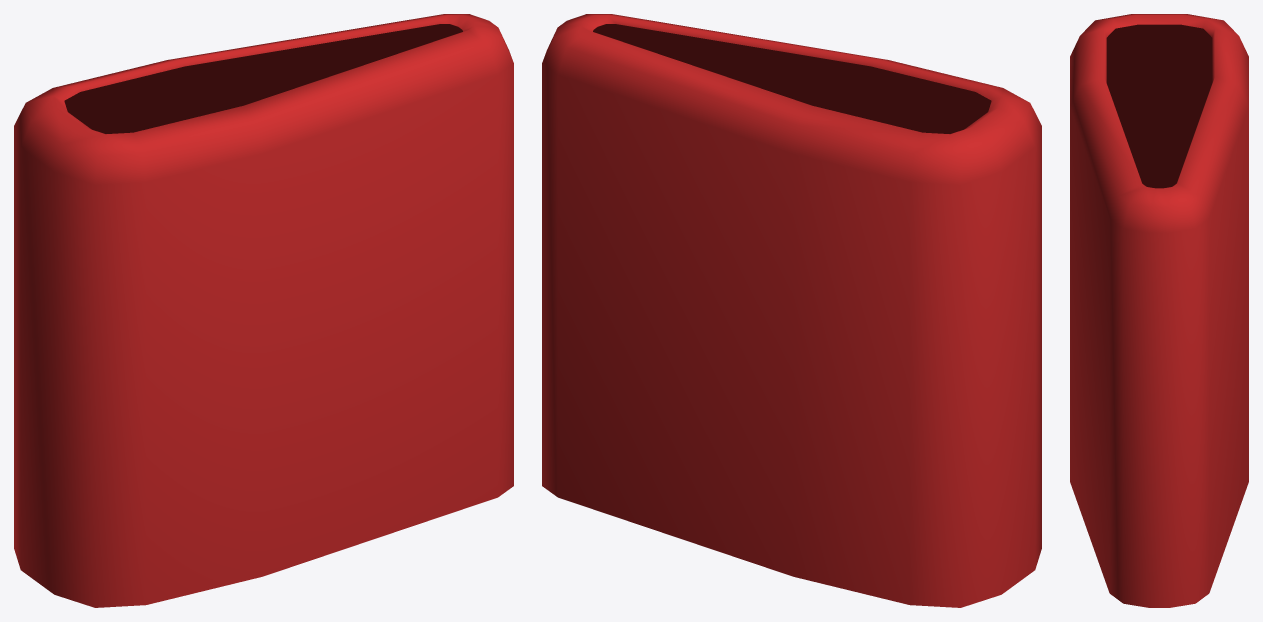
The model's file is pinball_flipper_rightside.gltf.
3 views of the same model, side by side, from view 1: azimuth 30°, elevation 25°; view 2: azimuth 150°, elevation 25°; view 3: azimuth 270°, elevation 25° (orthographic). The views are drawn at different scales.
Parts seen in each view (by area): view 1: flipper; view 2: flipper; view 3: flipper.
Boxes of the visible parts, x1,y1,x2,y2 form: flipper: (14, 14, 513, 607); flipper: (542, 14, 1041, 607); flipper: (1070, 14, 1248, 607).
Size of the model in its own units: 0.16 by 0.15 by 0.06.
